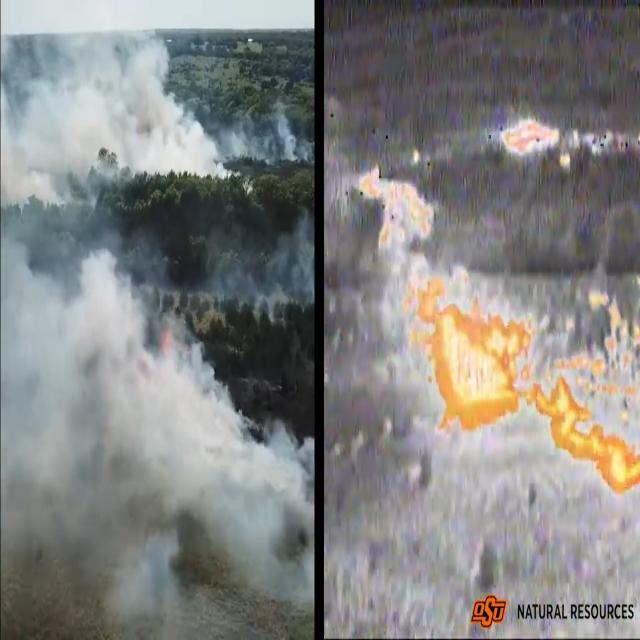fire: (360, 164, 532, 438), (531, 296, 640, 496), (503, 115, 573, 171)
